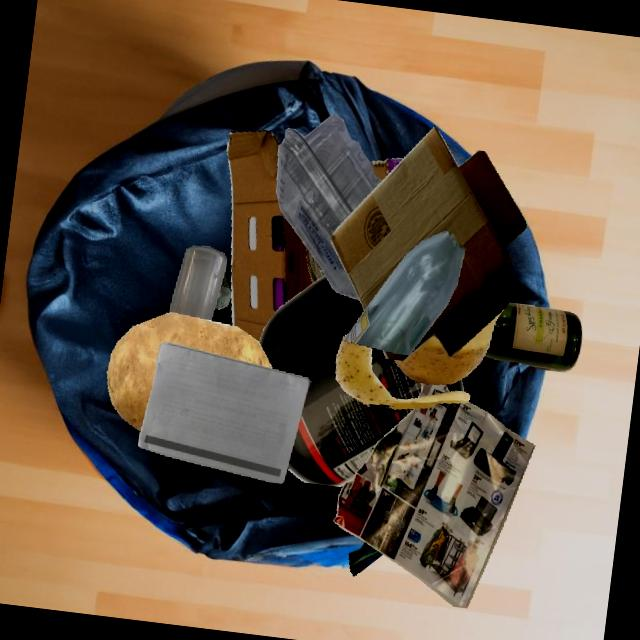biowaste: (107, 311, 271, 431), (335, 333, 470, 409), (394, 305, 506, 384), (348, 541, 383, 576)
cardboard: (330, 126, 526, 360), (227, 130, 313, 342)
glass: (344, 230, 465, 355), (484, 302, 582, 371), (169, 245, 226, 320), (306, 247, 324, 282)
paper: (333, 401, 534, 608), (138, 341, 311, 483)
plastic: (259, 274, 367, 483), (276, 113, 381, 300), (214, 272, 231, 309)
